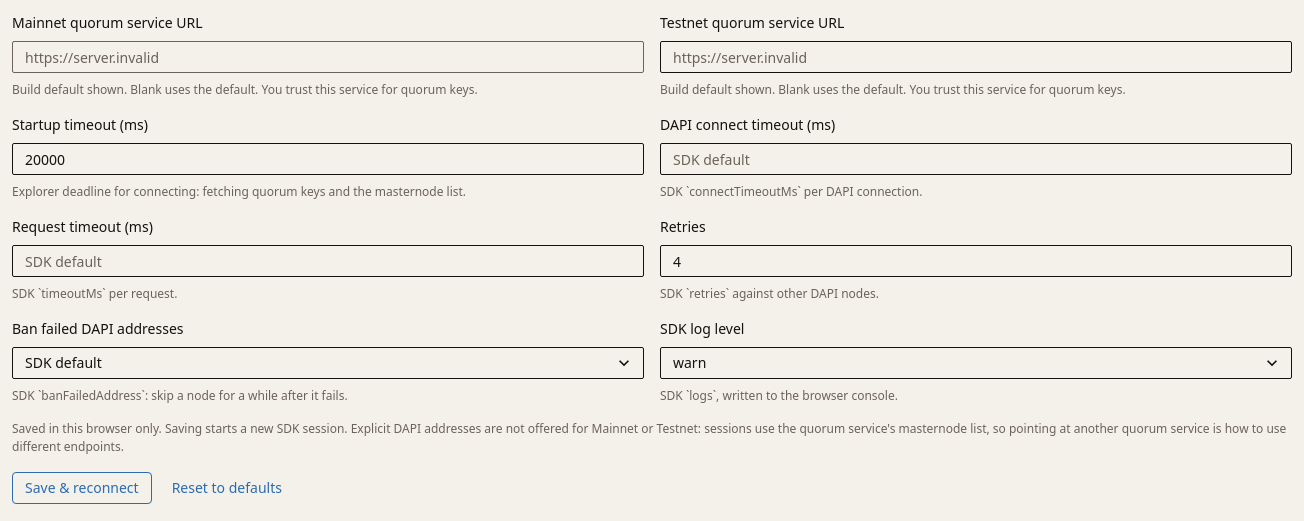
Test: ConnectionSettingsForm › resets to defaults
The width and height of the screenshot is (1304, 521).
Expected: the field labelled "Retries" holds "4", x1=660 y1=245 x2=1292 y2=277
Click the button "Reset to defaults": (227, 488) x1=160 y1=472 x2=294 y2=504
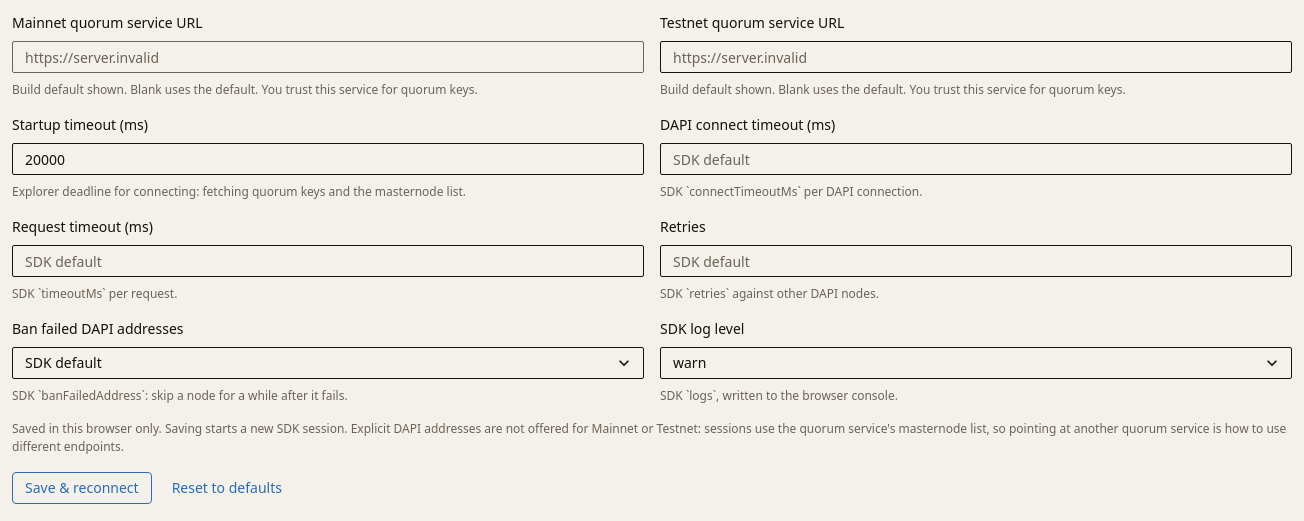
Now the field labelled "Retries" is empty, box x1=660 y1=245 x2=1292 y2=277
